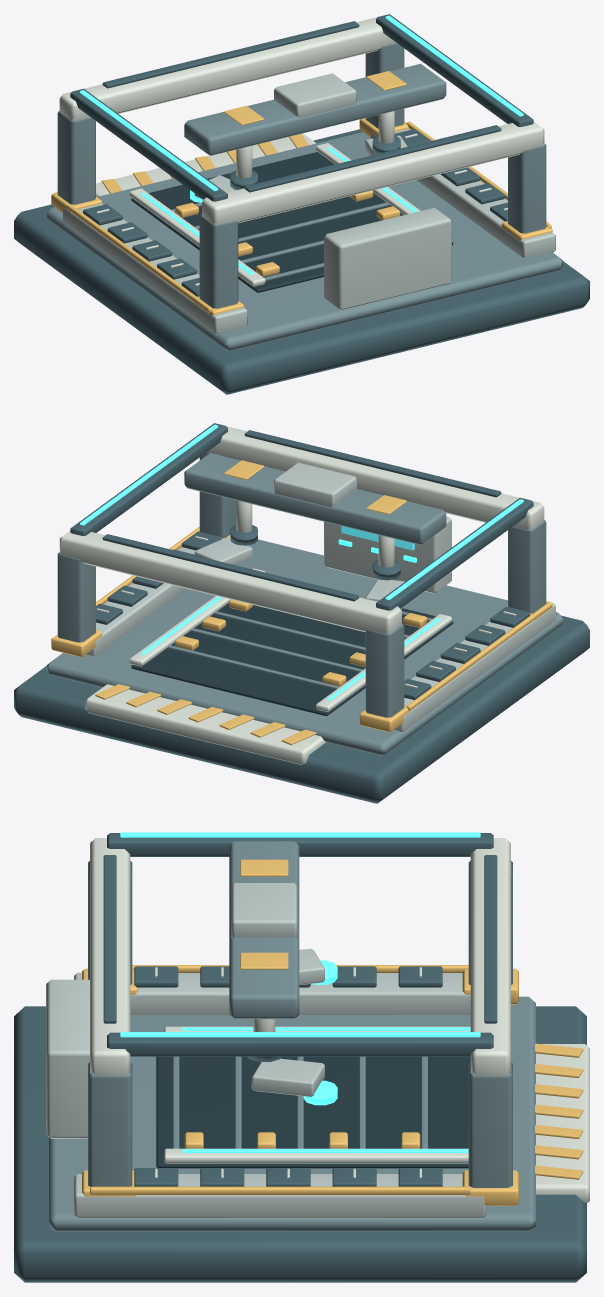
The model's file is service-bay.glb.
The picture shows the model from 3 angles, top to bottom: view 1: azimuth 30°, elevation 25°; view 2: azimuth 150°, elevation 25°; view 3: azimuth 270°, elevation 25°; orthographic projection. The views are drawn at different scales.
Visible parts, largest first — view 1: Service bay foundation, Recessed maintenance deck, Wheel alignment rail, Raised side service walk, Vehicle receiving pad, Gantry carriage, Lift jack anchor, Rail luminous guide; view 2: Service bay foundation, Recessed maintenance deck, Wheel alignment rail, Vehicle receiving pad, Raised side service walk, Gantry carriage, Lift jack anchor, Rail luminous guide, Right repair arm; view 3: Service bay foundation, Recessed maintenance deck, Raised side service walk, Wheel alignment rail, Vehicle receiving pad, Lift jack anchor, Gantry carriage, Rail luminous guide, Right repair arm, Left repair arm.
Boxes of the visible parts, x1,y1,x2,y2 form: Service bay foundation: (14,14,589,394); Recessed maintenance deck: (47,42,562,351); Wheel alignment rail: (59,17,544,286); Raised side service walk: (63,73,555,334); Vehicle receiving pad: (131,152,453,292); Gantry carriage: (184,63,446,155); Lift jack anchor: (51,71,552,315); Rail luminous guide: (80,15,523,275); Service bay foundation: (14,423,589,803); Recessed maintenance deck: (47,451,562,755); Wheel alignment rail: (59,426,544,764); Vehicle receiving pad: (131,603,453,715); Raised side service walk: (86,462,555,732); Gantry carriage: (184,453,446,545); Lift jack anchor: (51,460,552,745); Rail luminous guide: (80,424,523,700); Right repair arm: (194,537,252,565); Service bay foundation: (14,833,586,1282); Recessed maintenance deck: (49,861,535,1231); Raised side service walk: (46,883,486,1218); Wheel alignment rail: (90,838,589,1202); Vehicle receiving pad: (156,1056,470,1168); Lift jack anchor: (82,859,583,1205); Gantry carriage: (229,841,299,1019); Rail luminous guide: (120,832,480,1152); Right repair arm: (251,1058,324,1096); Left repair arm: (299,948,324,984).
Size of the model in its own units: 2.86 by 1.46 by 2.87.
